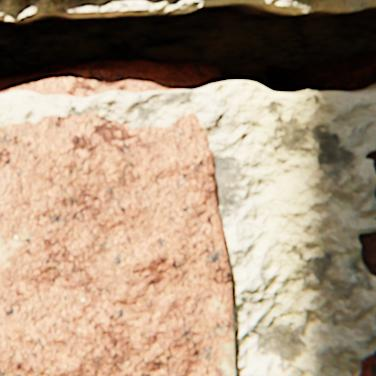brick: (0, 111, 234, 375), (357, 230, 375, 275), (358, 349, 375, 375), (364, 145, 375, 173), (374, 186, 375, 200)
crack: (0, 1, 375, 97)
